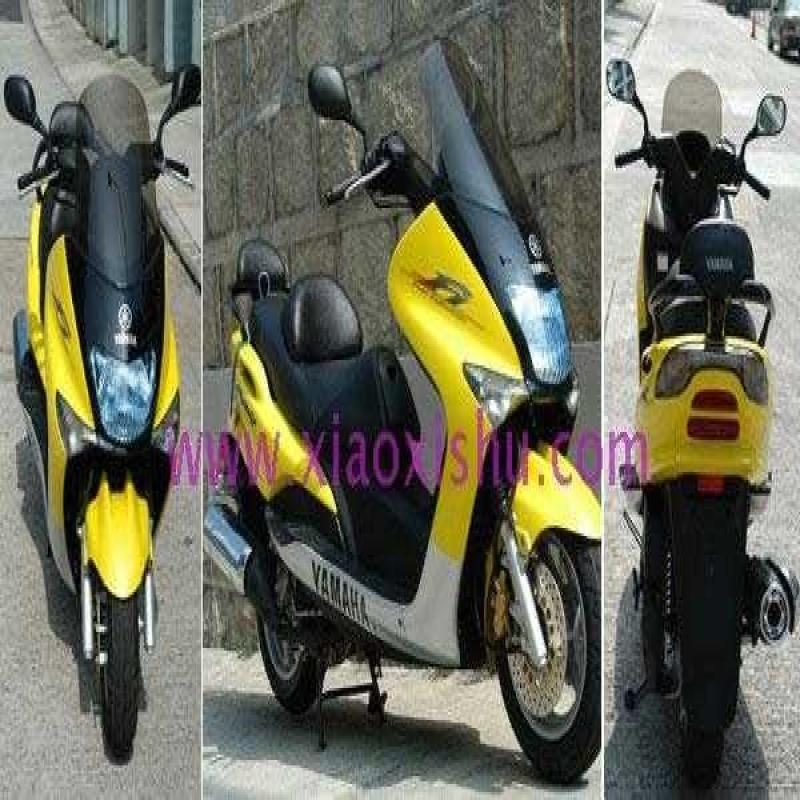bike: (210, 29, 597, 800), (610, 32, 800, 770), (21, 22, 193, 790)
